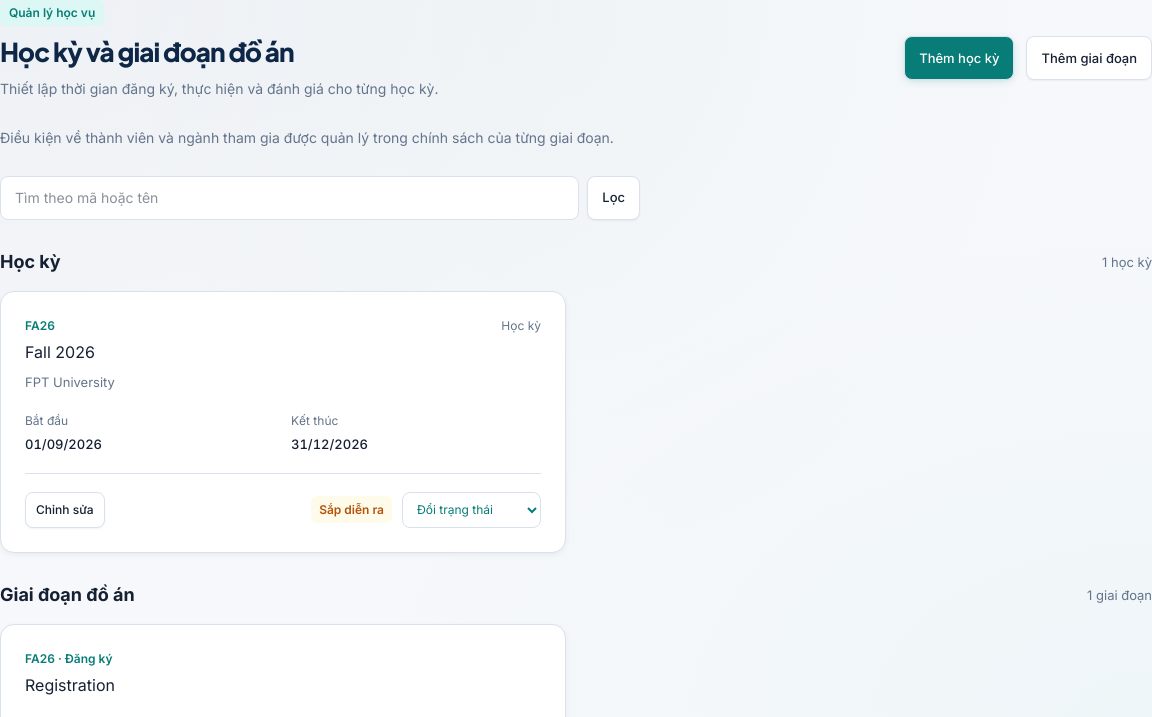
Test: shows an accessible field correction after 422 while retaining input
Click the button "Thêm giai đoạn".
click(1089, 58)  # box top-left (1026, 36), bottom-right (1151, 80)
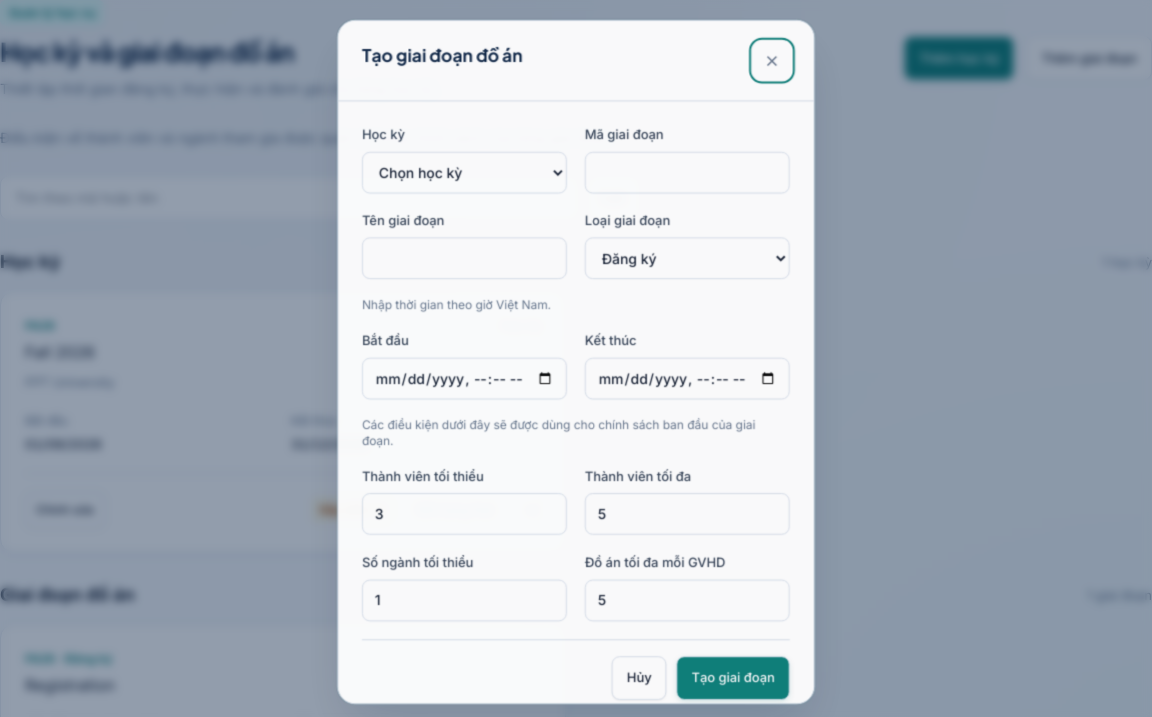
Select "FA26 · Fall 2026" in the dropdown labelled "Học kỳ" at (464,170), box top-left (361, 149), bottom-right (567, 191)
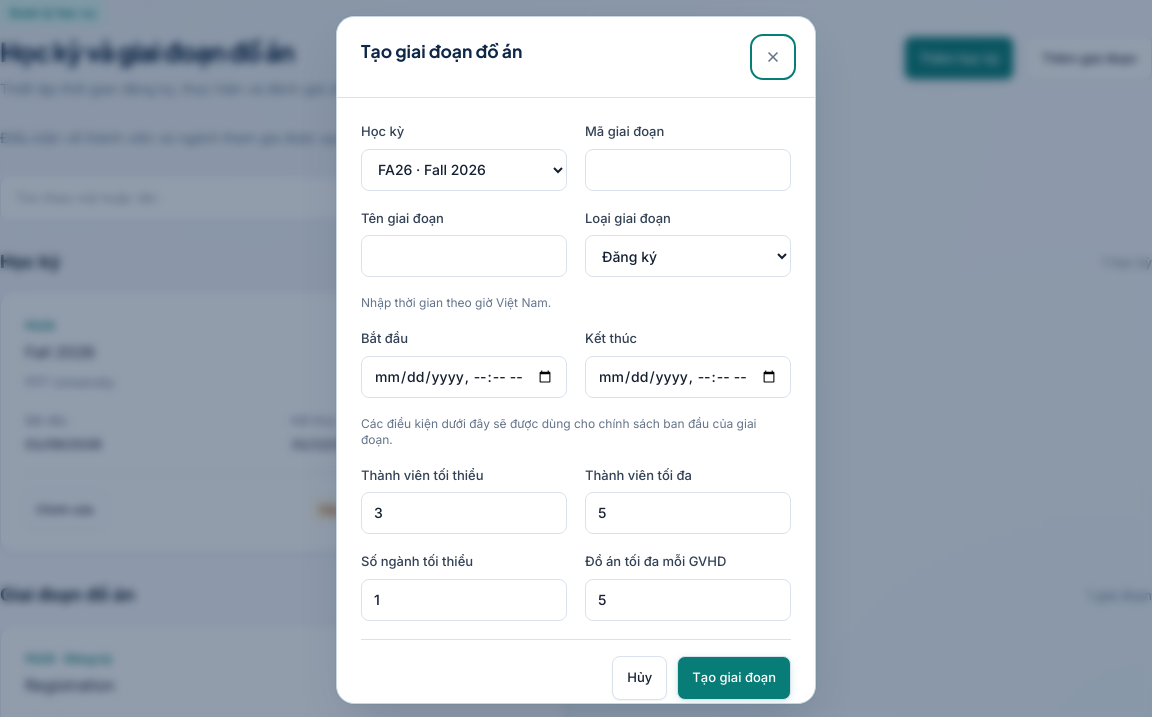
Type "OVERLAP-TEST" into the field labelled "Mã giai đoạn".
click(688, 170); type("OVERLAP-TEST")  # box top-left (585, 149), bottom-right (791, 191)
Type "Giai đoạn kiểm thử" into the field labelled "Tên giai đoạn".
click(464, 256); type("Giai đoạn kiểm thử")  # box top-left (361, 235), bottom-right (567, 277)
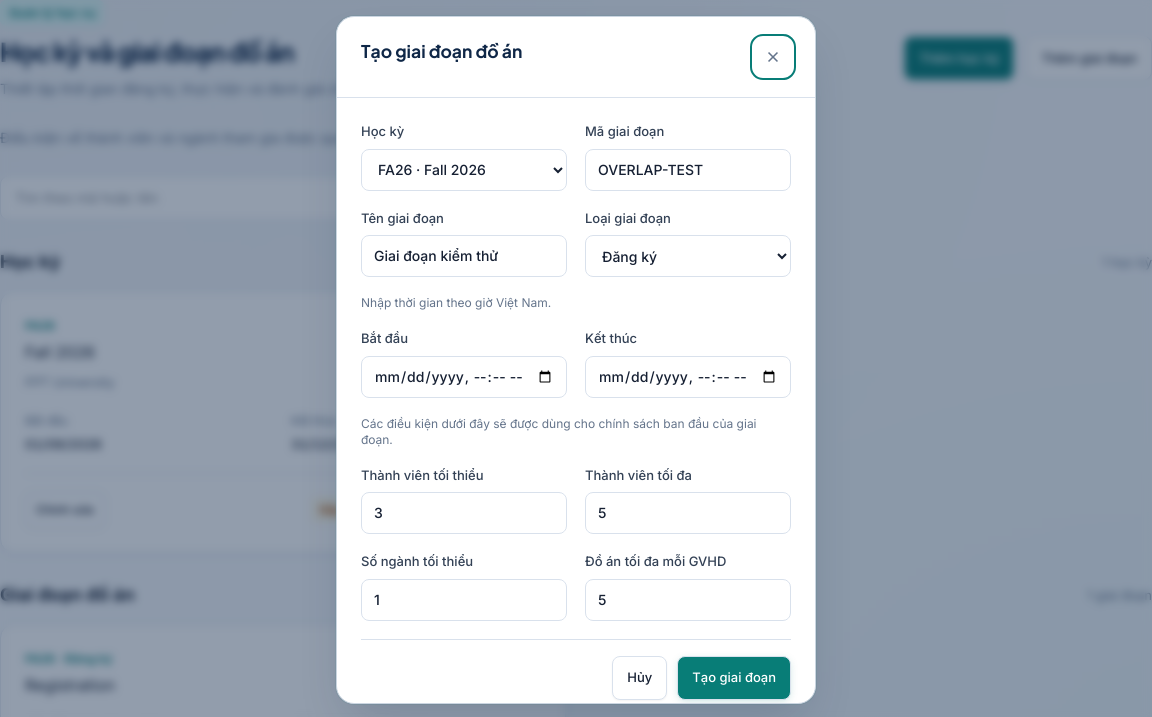
Type "2026-09-02T08:00" into the field labelled "Bắt đầu".
click(464, 377); type("2026-09-02T08:00")  # box top-left (361, 356), bottom-right (567, 398)
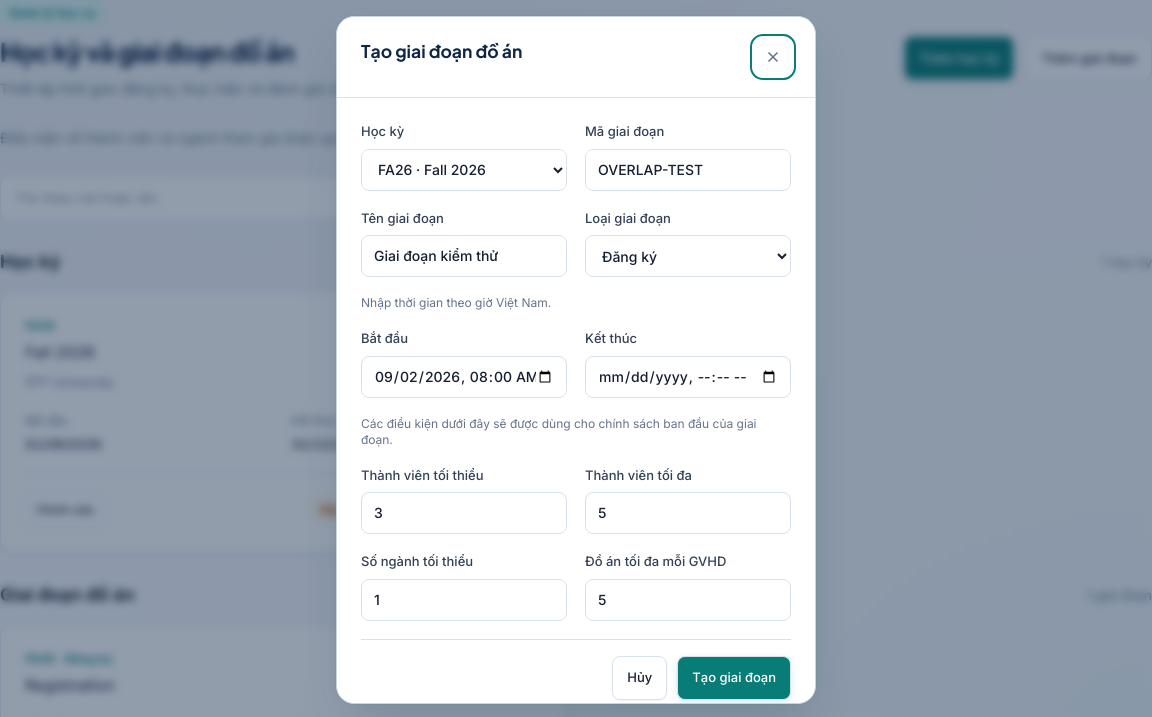
Type "2026-09-03T17:00" into the field labelled "Kết thúc".
click(688, 377); type("2026-09-03T17:00")  # box top-left (585, 356), bottom-right (791, 398)
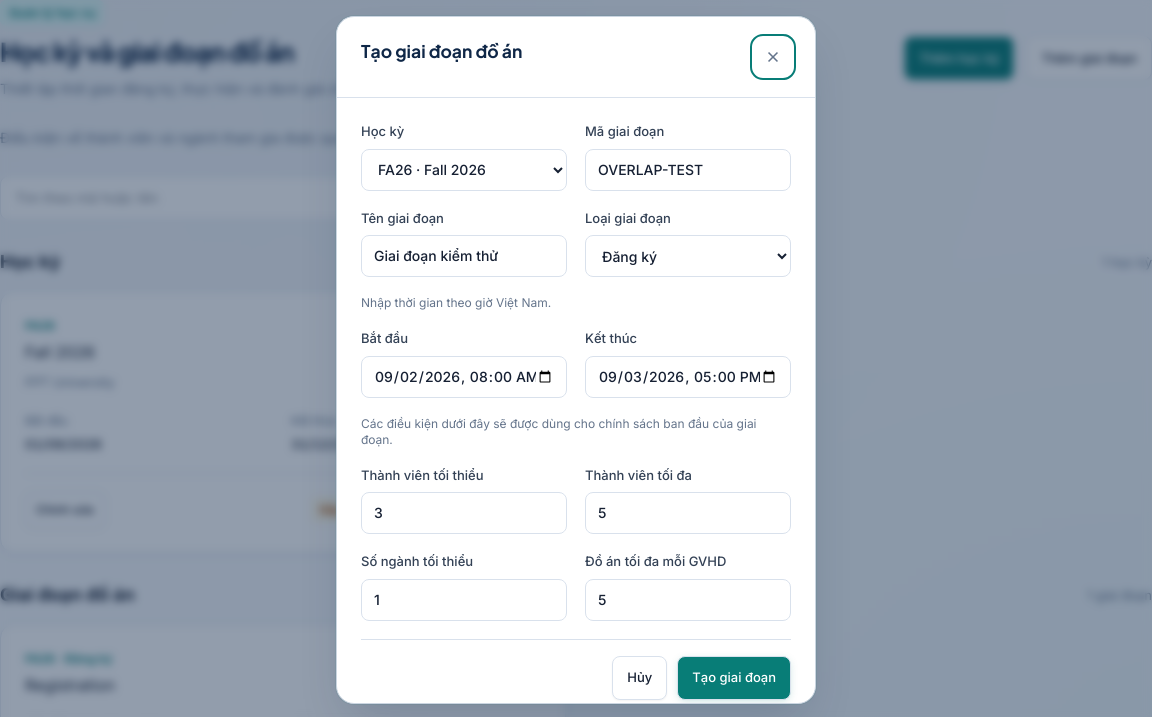
Submit the form labelled "Mã giai đoạn", box top-left (361, 122), bottom-right (791, 700)
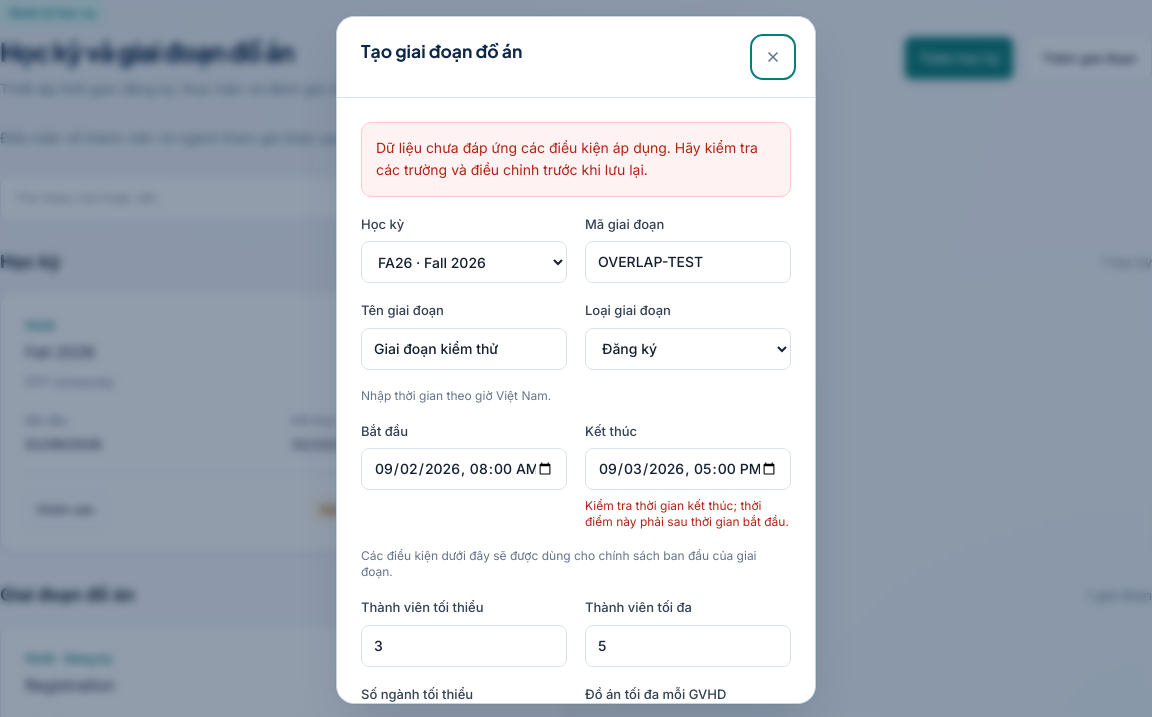
Now the message is shown, box top-left (361, 122), bottom-right (791, 197)
